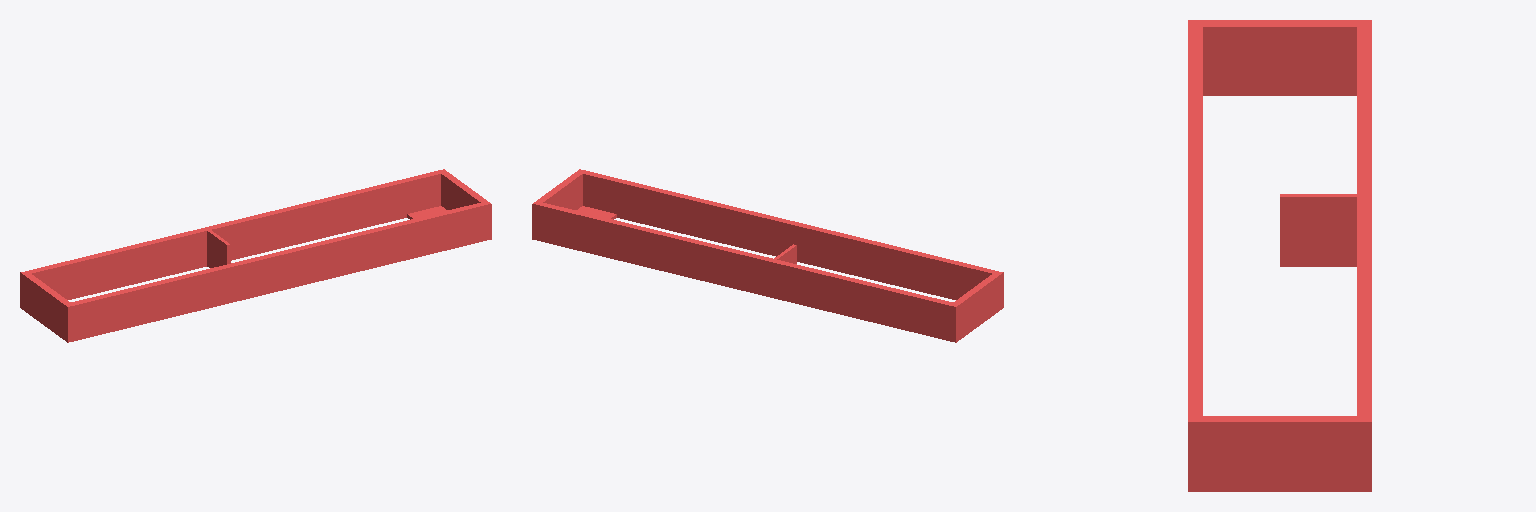
robot.urdf — long_room_half_wall.urdf:
<?xml version="1.0" ?>
<robot name="long_room_half_wall.urdf">
  <link concave="yes" name="baseLink">
    <inertial>
      <origin rpy="0 0 0" xyz="0.0 0.0 0.0"/>
       <mass value=".0"/>
       <inertia ixx="0" ixy="0" ixz="0" iyy="0" iyz="0" izz="0"/>
    </inertial>

    <visual>
      <origin rpy="1.57075 0 0" xyz="0 0 0"/>
      <geometry>
        <mesh filename="long_room_half_wall.obj" scale="1 1 1"/>
      </geometry>
       <material name="red">
        <color rgba="1 0.4 0.4 1"/>
      </material>
    </visual>

    <collision concave="yes">
      <origin rpy="1.57075 0 0" xyz="0 0 0"/>
      <geometry>
	 	    <mesh filename="long_room_half_wall.obj" scale="1 1 1"/>
      </geometry>
    </collision>
  </link>
</robot>

--- Render facts (derived) ---
The picture shows the robot from 3 angles, left to right: view 1: azimuth 30°, elevation 25°; view 2: azimuth 150°, elevation 25°; view 3: azimuth 270°, elevation 25°; orthographic projection.
Model long_room_half_wall.urdf with 1 links and 0 joints (none), rooted at baseLink, posed every joint at zero.
Visible links, largest first — view 1: baseLink; view 2: baseLink; view 3: baseLink.
Boxes of the visible links, box(x1,y1,x2,y2) form: baseLink: box(20, 169, 491, 342); baseLink: box(532, 169, 1003, 342); baseLink: box(1188, 20, 1371, 491).
Bounding box of the posed robot: 12.4 × 2.4 × 1 m (x, y, z).
Meshes: 1 distinct files referenced, 1 mesh visuals loaded (1 OBJ).